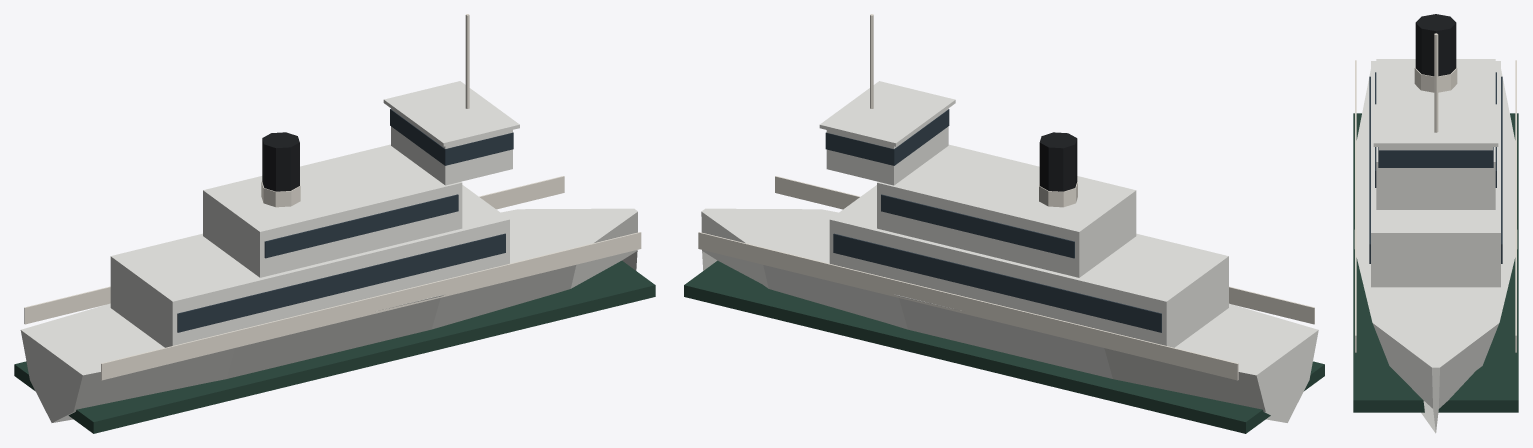
Rendered from skargardsbat.glb.
The picture shows the model from 3 angles, left to right: view 1: azimuth 30°, elevation 25°; view 2: azimuth 150°, elevation 25°; view 3: azimuth 270°, elevation 25°; orthographic projection. The views are drawn at different scales.
Parts seen in each view (by area): view 1: skargardsbat; view 2: skargardsbat; view 3: skargardsbat.
Part boxes in pixels (x1=…): skargardsbat: x1=14, y1=14, x2=655, y2=433; skargardsbat: x1=684, y1=14, x2=1324, y2=433; skargardsbat: x1=1353, y1=14, x2=1518, y2=433.
Bounding box in the file's own units: 26 × 13.5 × 6.1.
